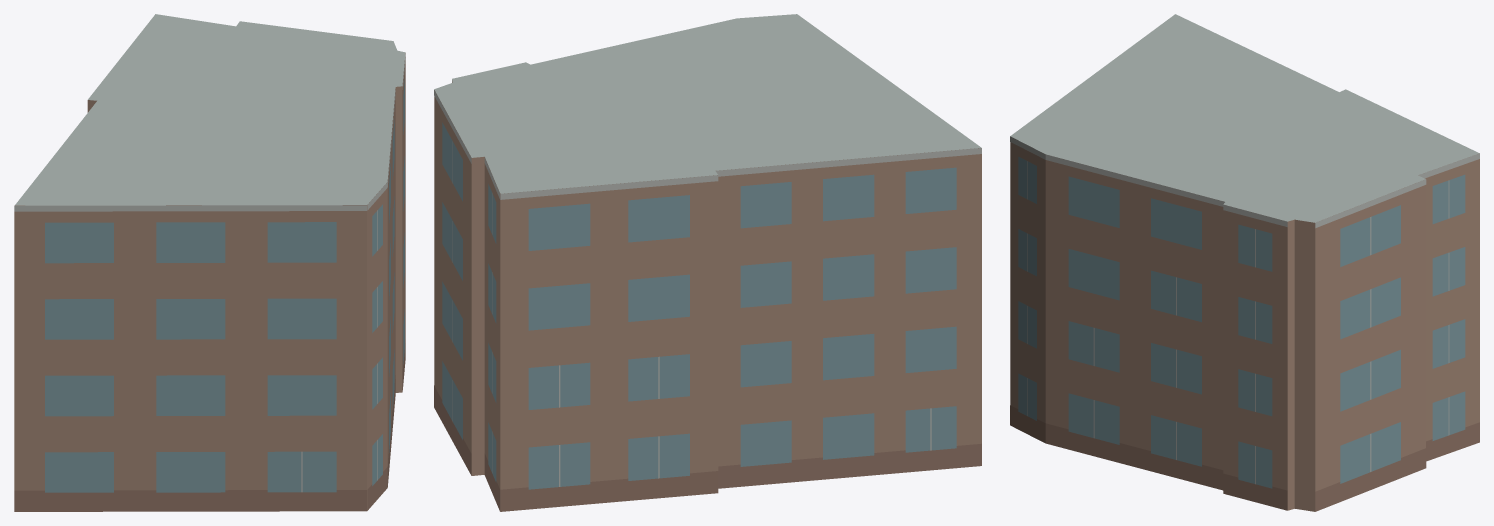
Rendered from survey-upis-33000229.glb.
3 views of the same model, side by side, from view 1: azimuth 30°, elevation 25°; view 2: azimuth 150°, elevation 25°; view 3: azimuth 270°, elevation 25° (orthographic). The views are drawn at different scales.
Parts seen in each view (by area): view 1: survey-upis-33000229.tmp; view 2: survey-upis-33000229.tmp; view 3: survey-upis-33000229.tmp.
Part boxes in pixels (<box>): survey-upis-33000229.tmp: <box>14,14,405,511</box>; survey-upis-33000229.tmp: <box>434,14,981,511</box>; survey-upis-33000229.tmp: <box>1010,14,1479,511</box>.
Bounding box in the file's own units: 19.52 × 12.6 × 18.56.
